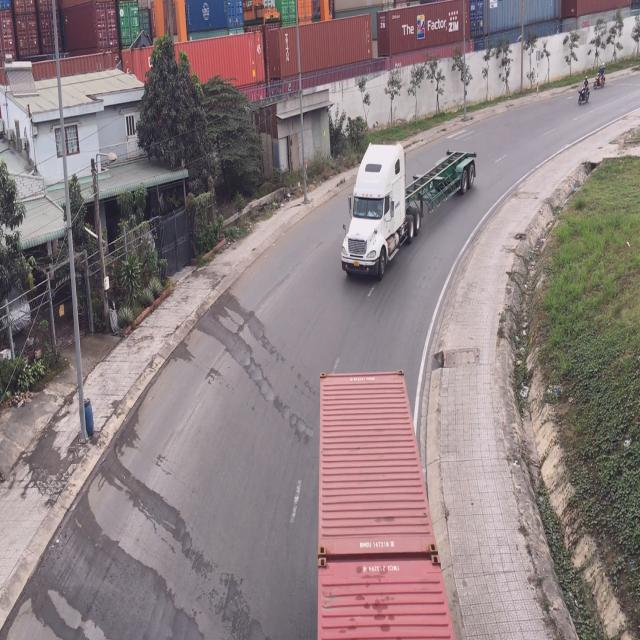motorbike: (577, 71, 593, 108), (594, 64, 607, 90)
truck: (318, 366, 451, 638), (346, 139, 481, 278)
